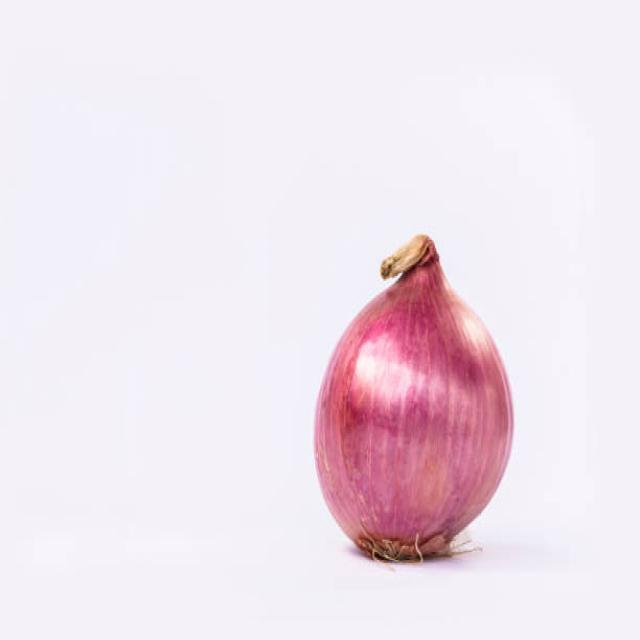onion: (313, 270, 507, 568)
